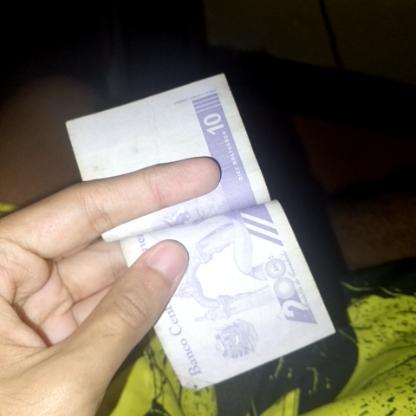ten-back-vef: (59, 73, 337, 397)
